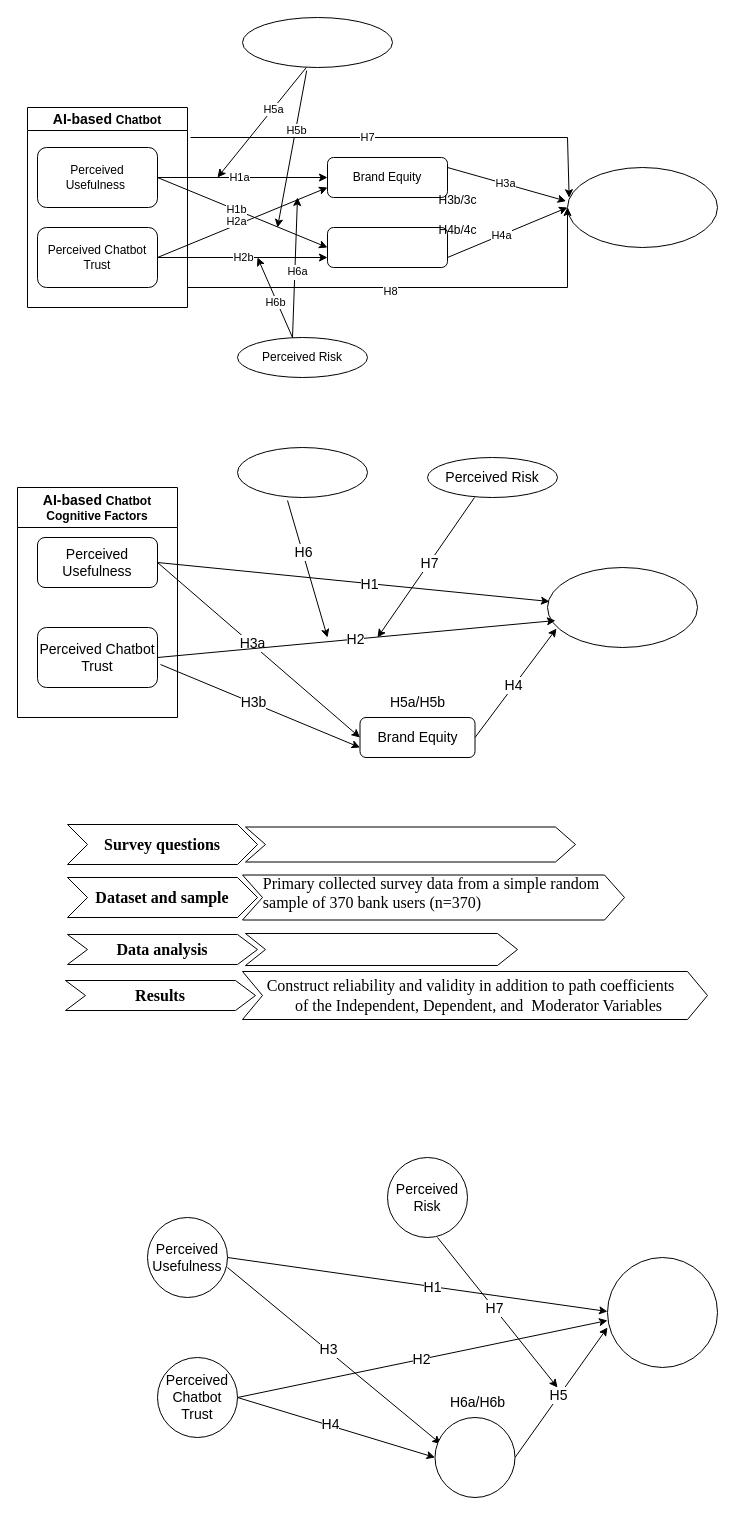
Image size: 735x1515. Some labels were removed from this diagram. Each missing label, with the centre of its shape:
"Customer Engagement" belongs at point 387,247.
"Data privacy and security" belongs at point 317,42.
"Excel 365, SmartPLS 4" belongs at point 381,949.
"Perceived privacy" belongs at point 302,472.
"Purchase Intension" belongs at point 642,207.
"Seven-Point Likert scales through Qualtrics" belongs at point 410,844.
"Social Influence" belongs at point 474,1457.
"Use Intensions" belongs at point 622,607.
"Use Intention" belongs at point 662,1312.
